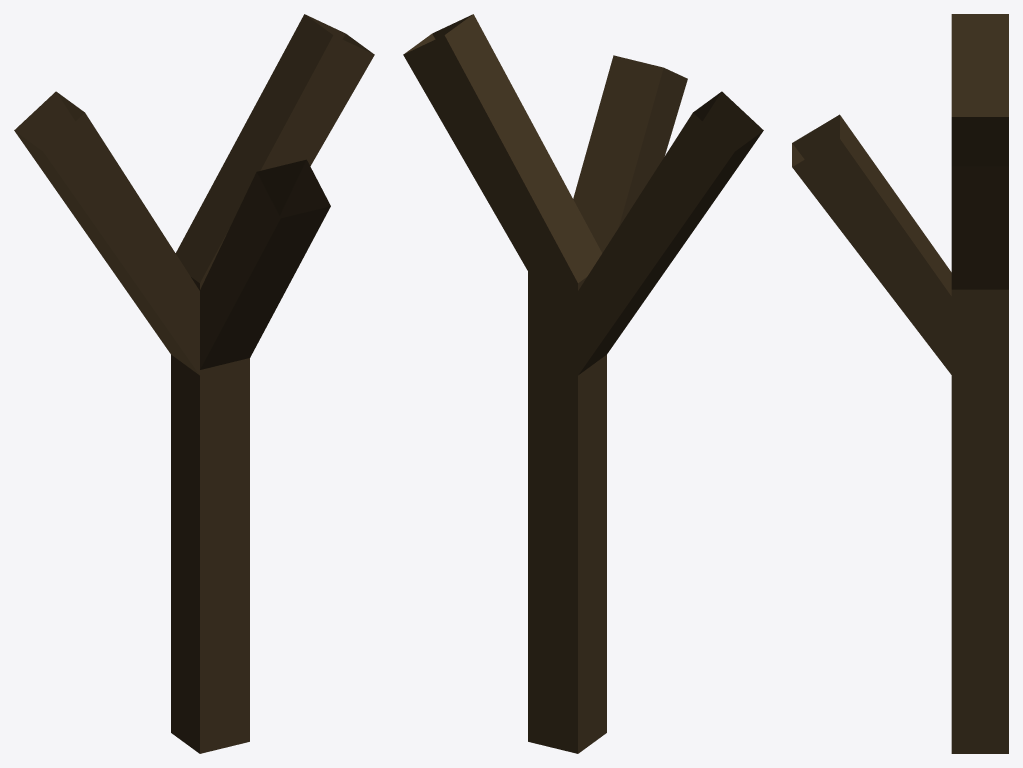
File: Itr_Obj_Flowerpot_Branch_01.FBX
3 views of the same model, side by side, from view 1: azimuth 30°, elevation 25°; view 2: azimuth 150°, elevation 25°; view 3: azimuth 270°, elevation 25° (orthographic).
Parts seen in each view (by area): view 1: Itr_Obj_Flowerpot_Branch_01; view 2: Itr_Obj_Flowerpot_Branch_01; view 3: Itr_Obj_Flowerpot_Branch_01.
Part boxes in pixels (x1,y1,x2,y2): Itr_Obj_Flowerpot_Branch_01: (14,14,374,753); Itr_Obj_Flowerpot_Branch_01: (403,14,763,753); Itr_Obj_Flowerpot_Branch_01: (792,14,1008,753).
Size of the model in its own units: 12.22 by 24.14 by 7.01.
